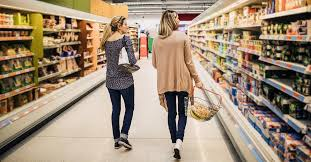Bad: (100, 9, 194, 159)
